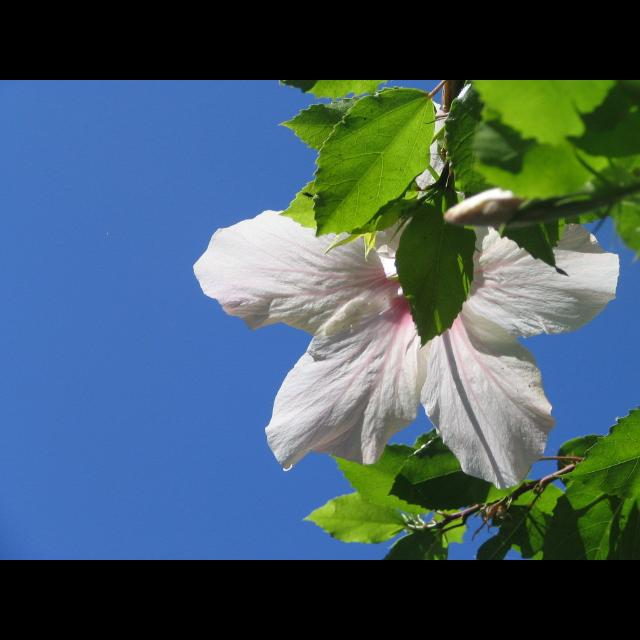Flower: (236, 124, 640, 506)
